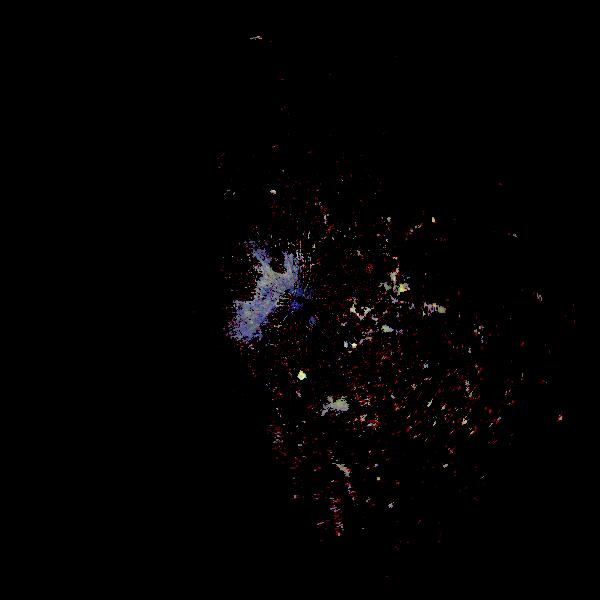roost: (294, 367, 312, 385), (397, 282, 415, 300), (271, 189, 277, 195), (433, 218, 439, 224)
